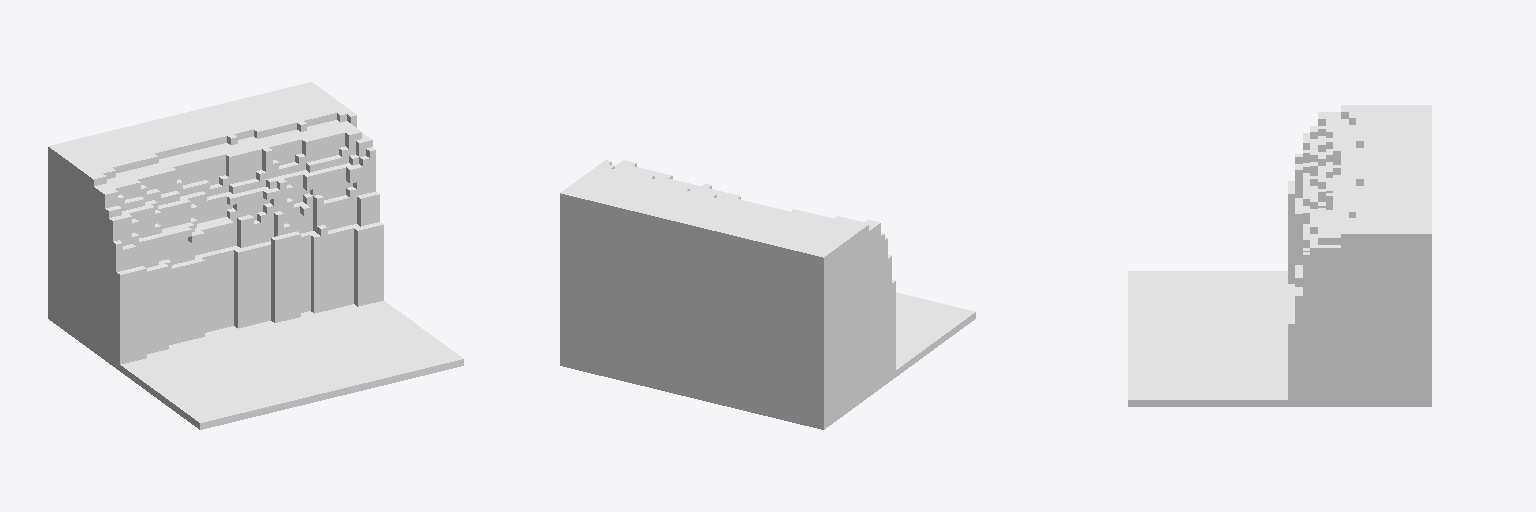
Rendered from tile-halfmountain-1.obj.
3 renders of one model, left to right at view 1: azimuth 30°, elevation 25°; view 2: azimuth 150°, elevation 25°; view 3: azimuth 270°, elevation 25°, orthographic.
Parts seen in each view (by area): view 1: tile-halfmountain-1; view 2: tile-halfmountain-1; view 3: tile-halfmountain-1.
Boxes of the visible parts, x1=… form: tile-halfmountain-1: x1=48, y1=82, x2=463, y2=429; tile-halfmountain-1: x1=560, y1=160, x2=975, y2=429; tile-halfmountain-1: x1=1128, y1=105, x2=1431, y2=406.
Bounding box in the file's own units: 40 × 25 × 40.